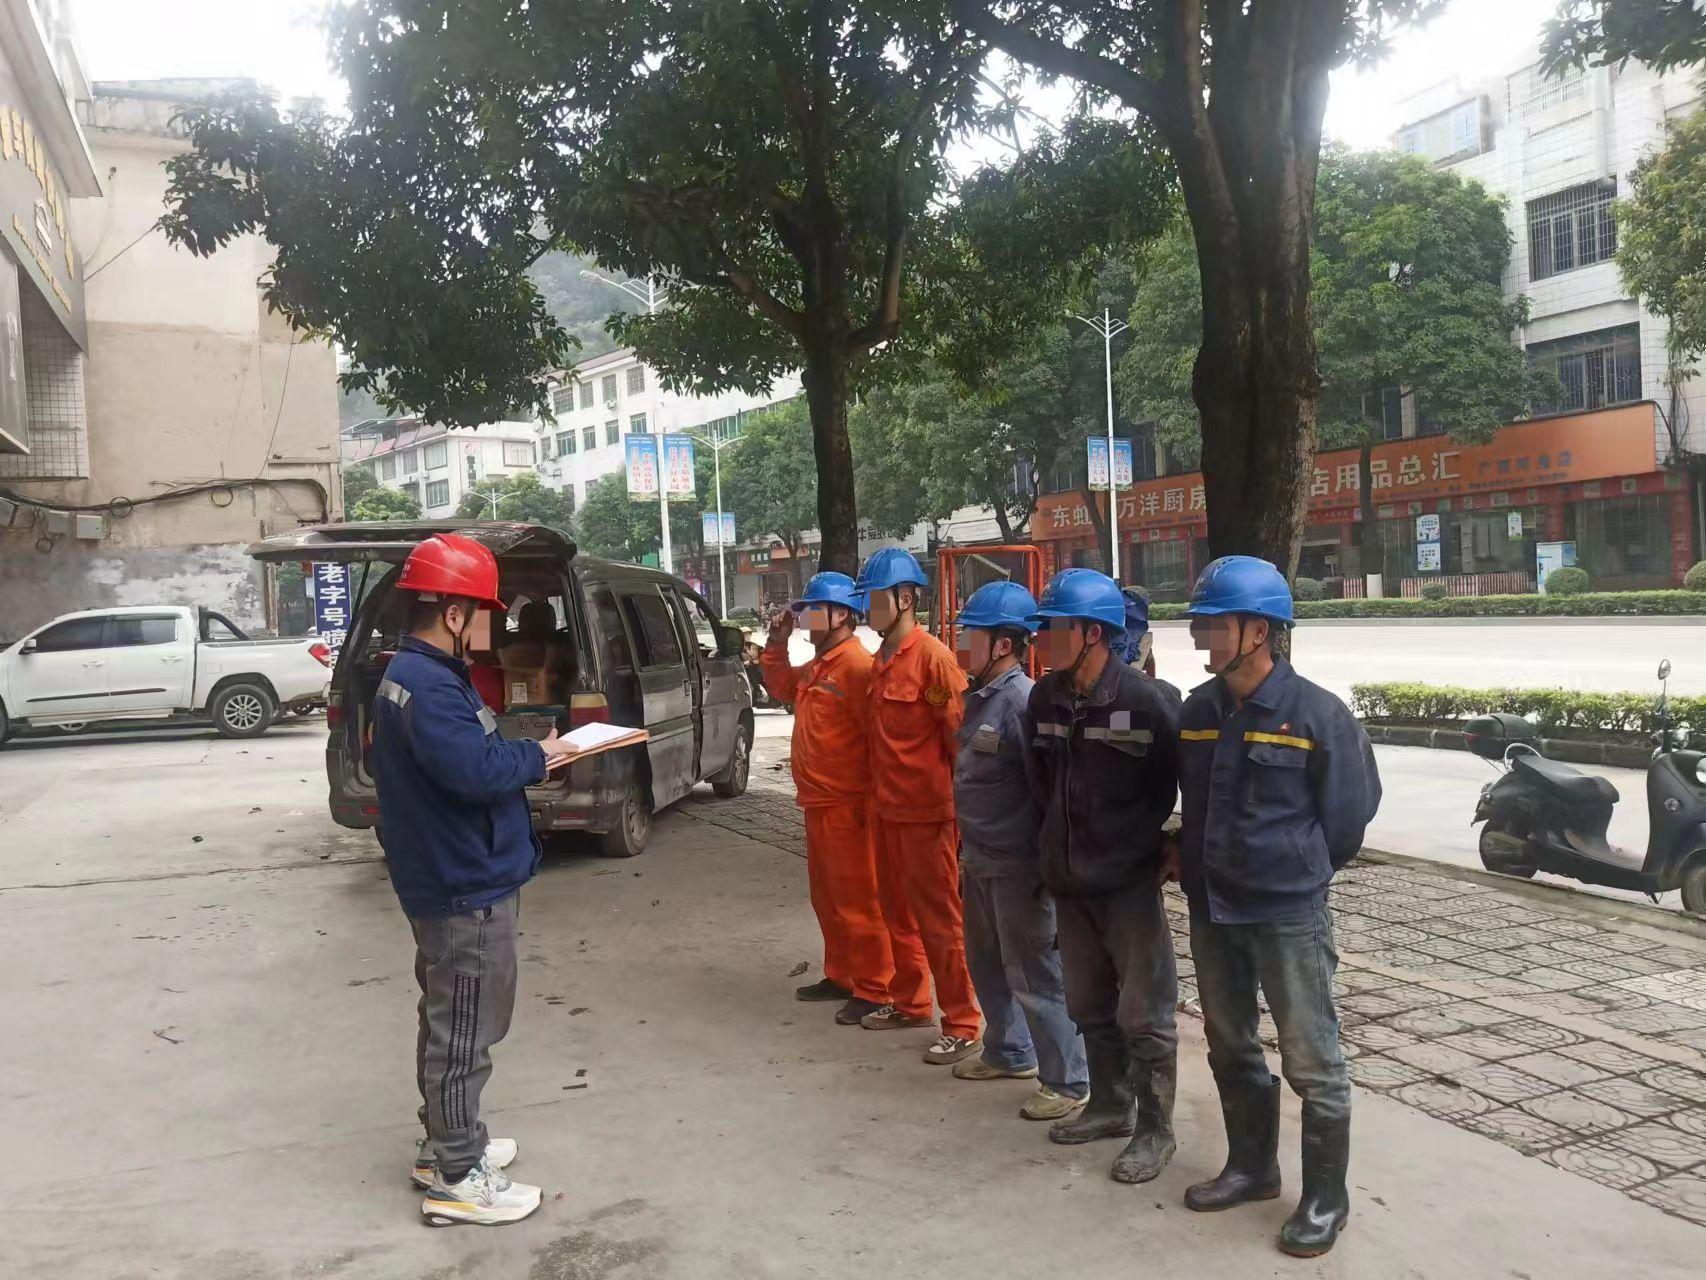halt: (393, 535, 508, 657), (1188, 559, 1300, 682), (1041, 570, 1140, 683), (957, 582, 1047, 680), (860, 551, 932, 632), (799, 571, 866, 644)
inear: (433, 600, 483, 648), (1233, 616, 1280, 667), (1075, 620, 1117, 666), (985, 631, 1026, 672), (821, 606, 858, 647), (890, 586, 921, 627)
